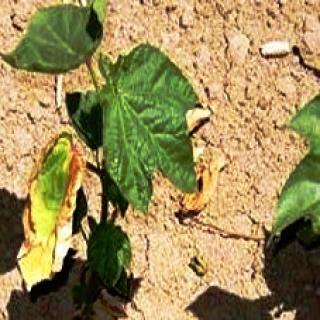wilt: (17, 128, 81, 292)
